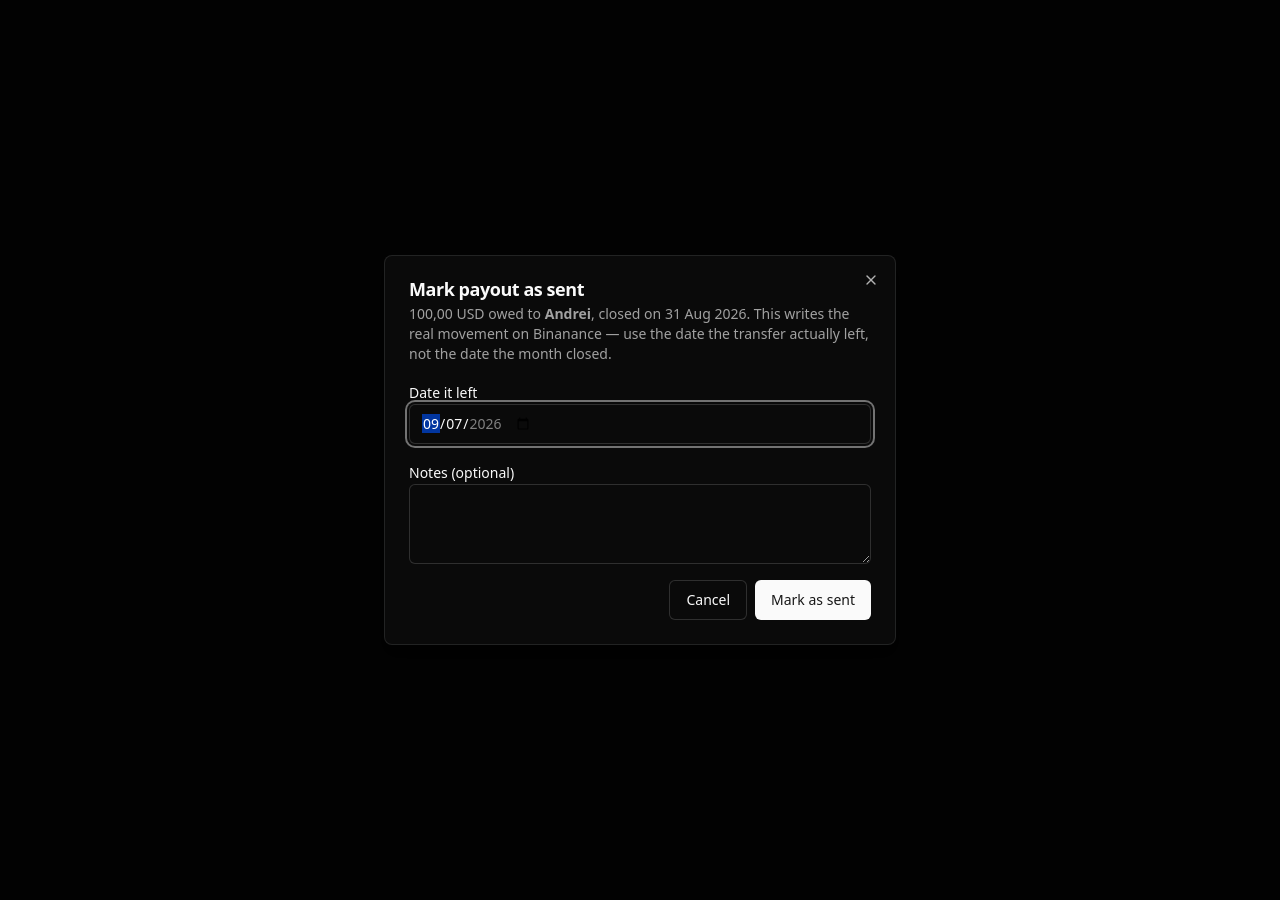
it: a guard rejection lands inline, next to the form › settle payout
What coordinates should you click on to do the following:
click the button with test id "settle-submit-button"
I would click on:
 (813, 600)
Its box is [755,580,871,620].
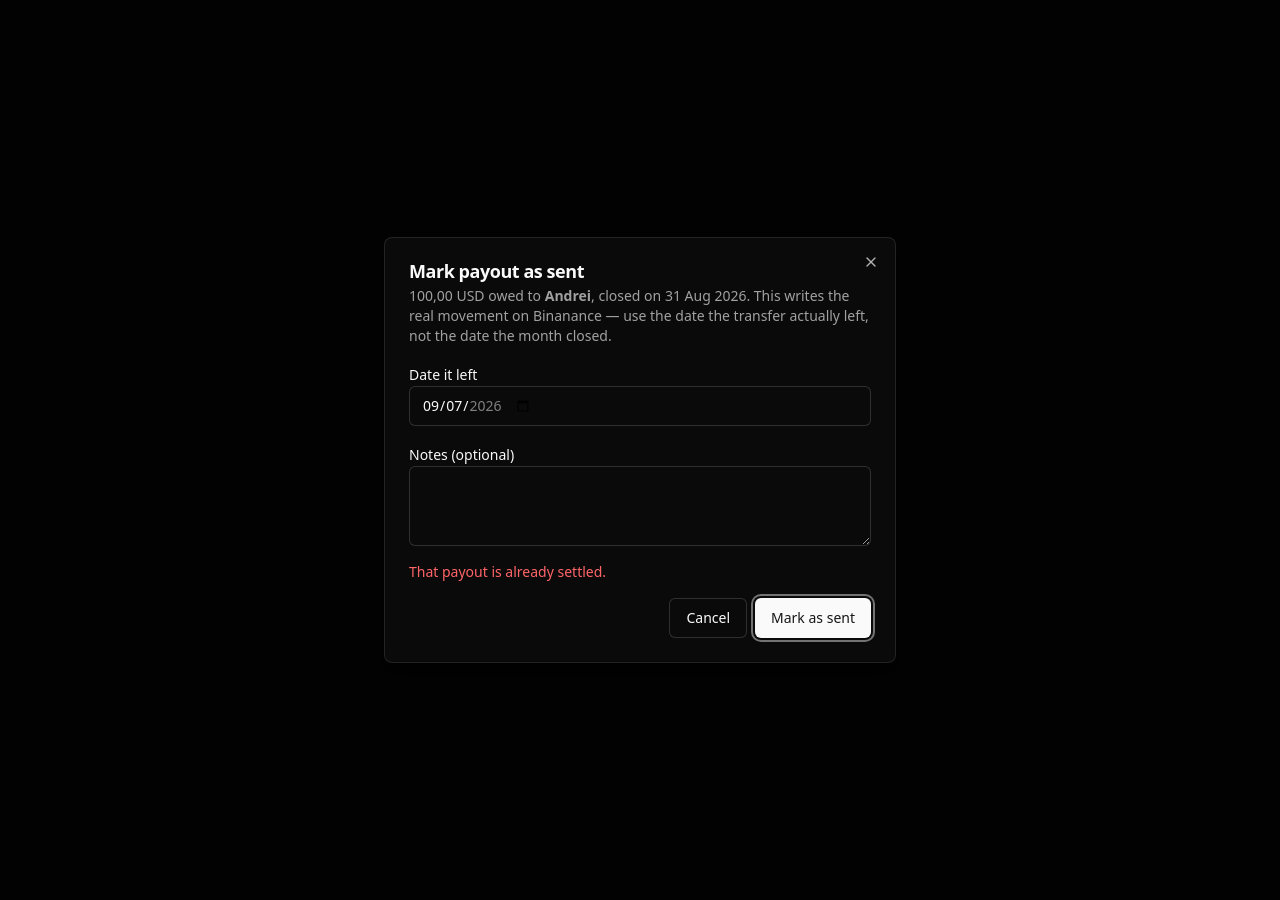
Result: the message with test id "settle-payout-error" reads "That payout is already settled." at [409,562,606,581]
